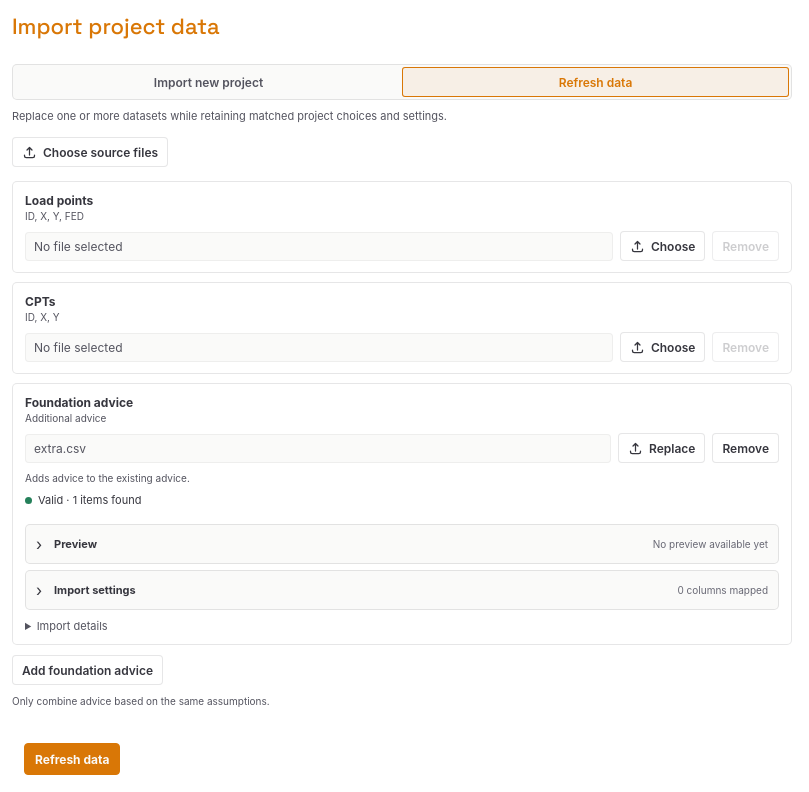
Test: successful refresh clears staged replacements so they cannot target a removed advice
Click the 2nd button "Refresh data" at (72, 759), box x1=24 y1=743 x2=120 y2=775
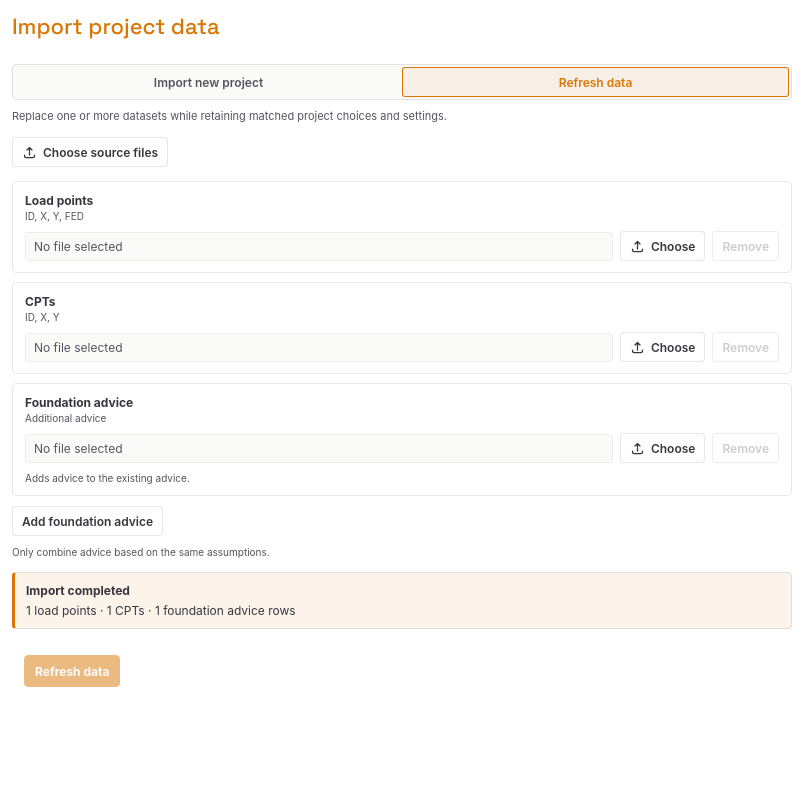
Result: the text "extra.csv" is gone
Result: the 2nd button "Refresh data" is disabled at x1=24 y1=655 x2=120 y2=687
